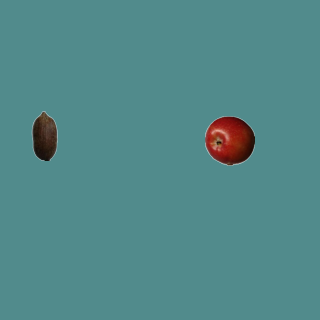Apple Braeburn: (204, 115, 254, 165)
Nut Pecan: (19, 110, 69, 160)
